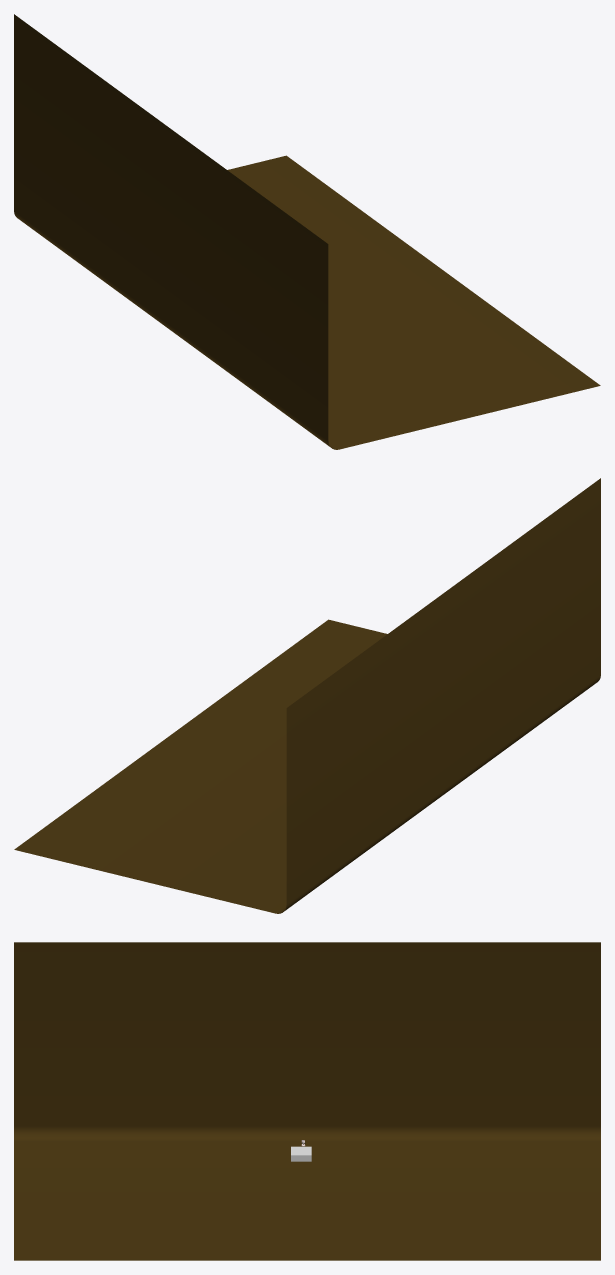
File: asset_01.glb
The picture shows the model from 3 angles, top to bottom: view 1: azimuth 30°, elevation 25°; view 2: azimuth 150°, elevation 25°; view 3: azimuth 270°, elevation 25°; orthographic projection. The views are drawn at different scales.
Parts seen in each view (by area): view 1: Plane; view 2: Plane; view 3: Plane.
Part boxes in pixels (left/top/right/bottom): Plane: left=14, top=14, right=600, bottom=449; Plane: left=14, top=478, right=600, bottom=913; Plane: left=14, top=942, right=600, bottom=1260.
Size of the model in its own units: 28.44 by 22.08 by 56.85.
3 materials, 2 textured.
